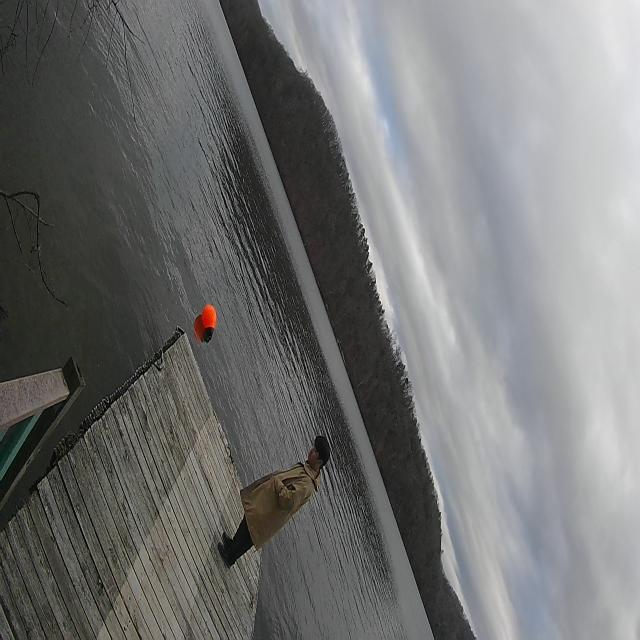Buoy: (201, 303, 218, 340)
